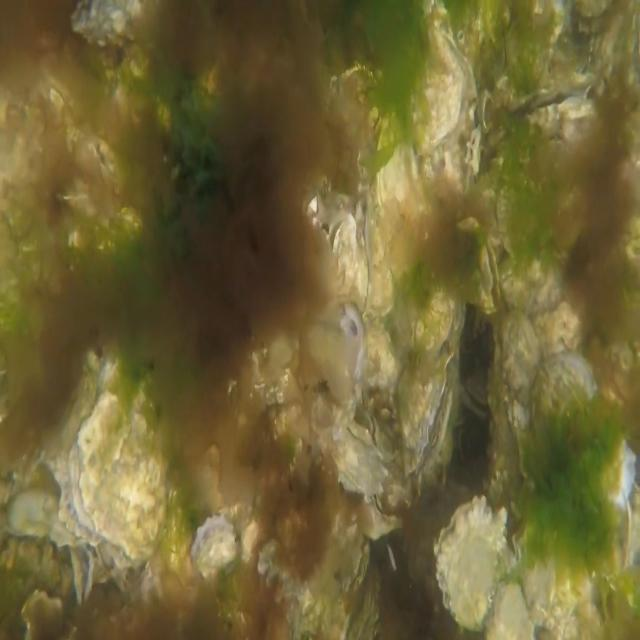Oyster-Closed: (512, 517, 593, 630), (399, 349, 455, 476), (312, 420, 388, 502), (359, 487, 404, 539), (354, 191, 372, 321)
Oyster-Indeterminate: (530, 350, 636, 511), (70, 390, 166, 564), (434, 493, 508, 632), (375, 111, 427, 282), (407, 0, 463, 158), (496, 310, 542, 483), (498, 254, 564, 320), (420, 284, 466, 367), (367, 194, 395, 320), (192, 512, 239, 574)
Oyster-Open: (506, 80, 596, 156), (327, 208, 358, 292), (476, 236, 502, 318)
